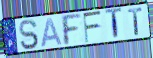A: (40, 17, 64, 48)
F: (59, 13, 83, 47), (82, 10, 103, 45)
S: (18, 19, 40, 51)
T: (104, 6, 123, 41), (127, 7, 144, 37)
